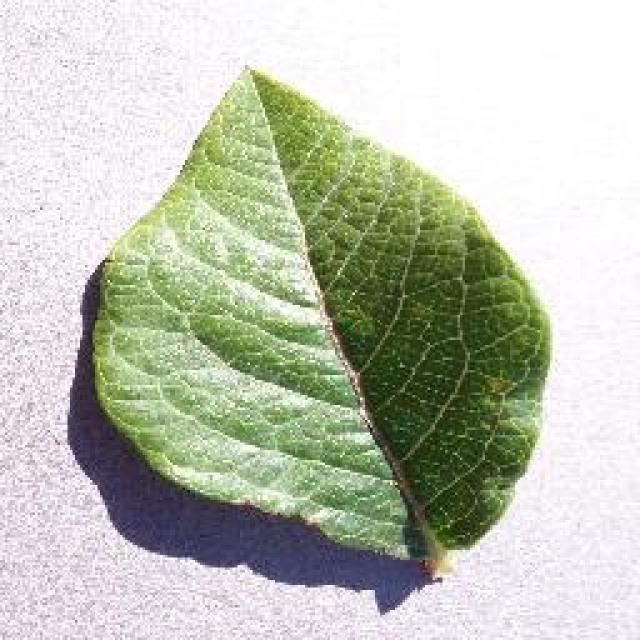Blu_healthy: (124, 156, 521, 502)
